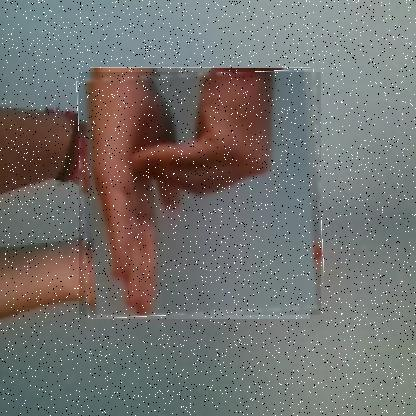Z: (79, 72, 322, 316)
